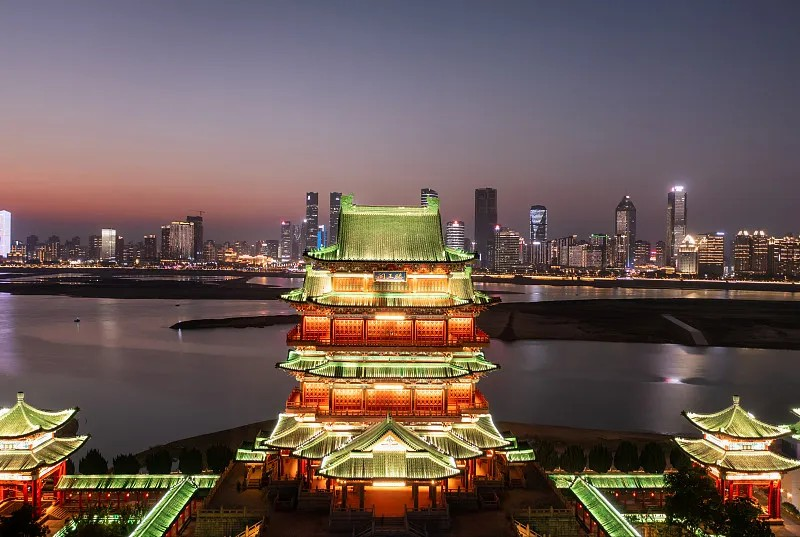Teng: (236, 195, 535, 489)
